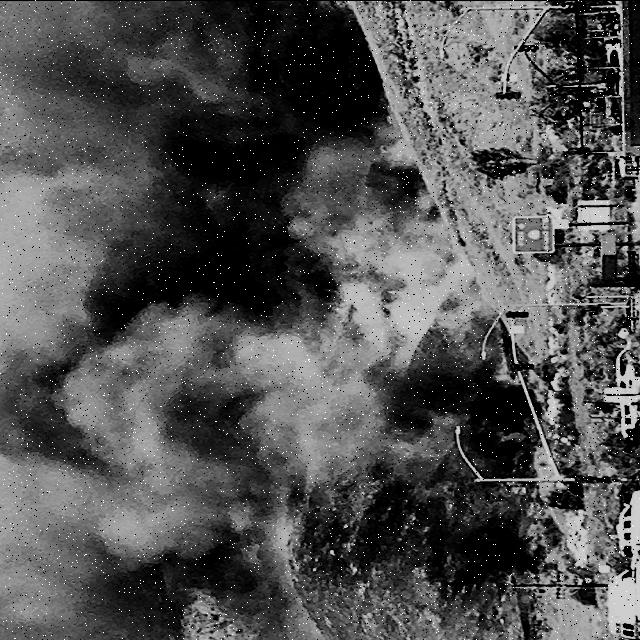api: (307, 246, 370, 411)
asap: (1, 121, 501, 640), (1, 1, 423, 180)
